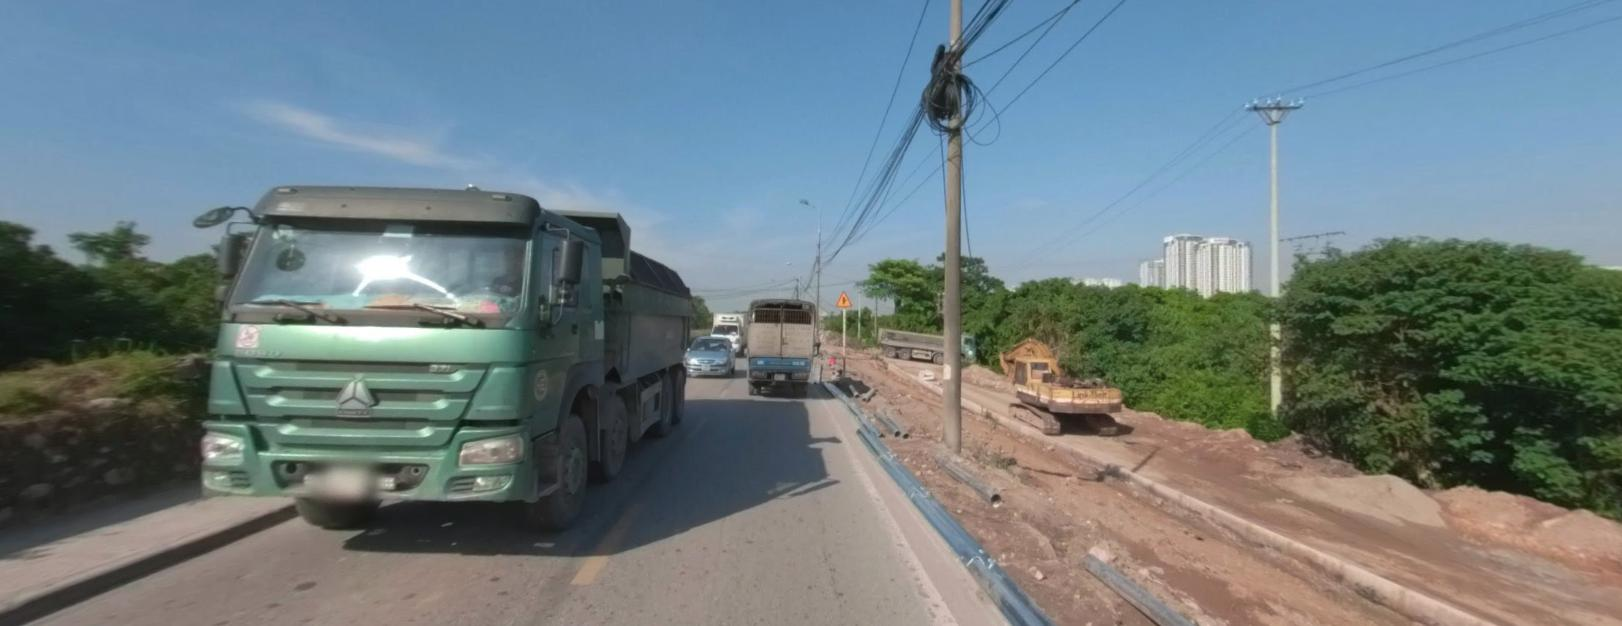Nguy hiem: (835, 289, 853, 305)
